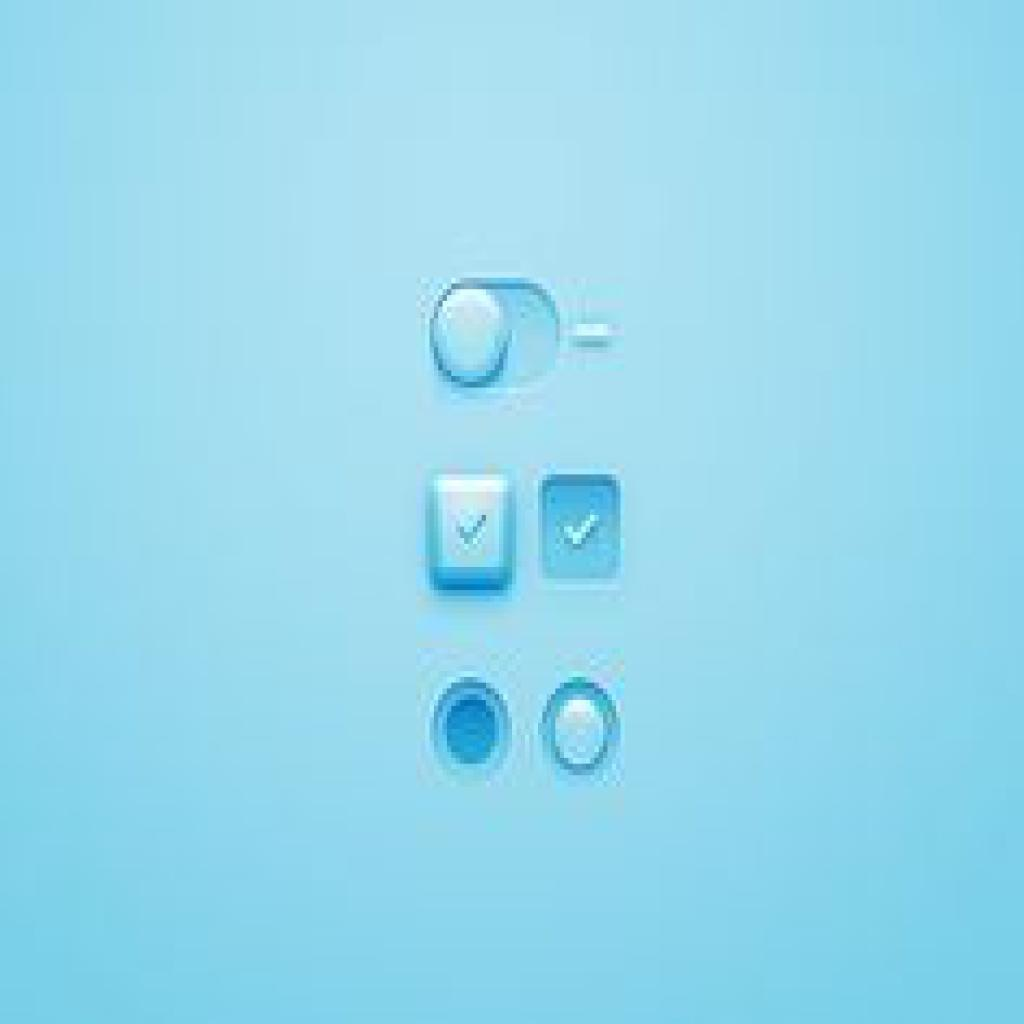checkbox: (423, 475, 514, 589), (536, 478, 622, 583)
radio: (421, 677, 513, 779), (538, 679, 628, 782)
switch: (425, 281, 568, 391)
